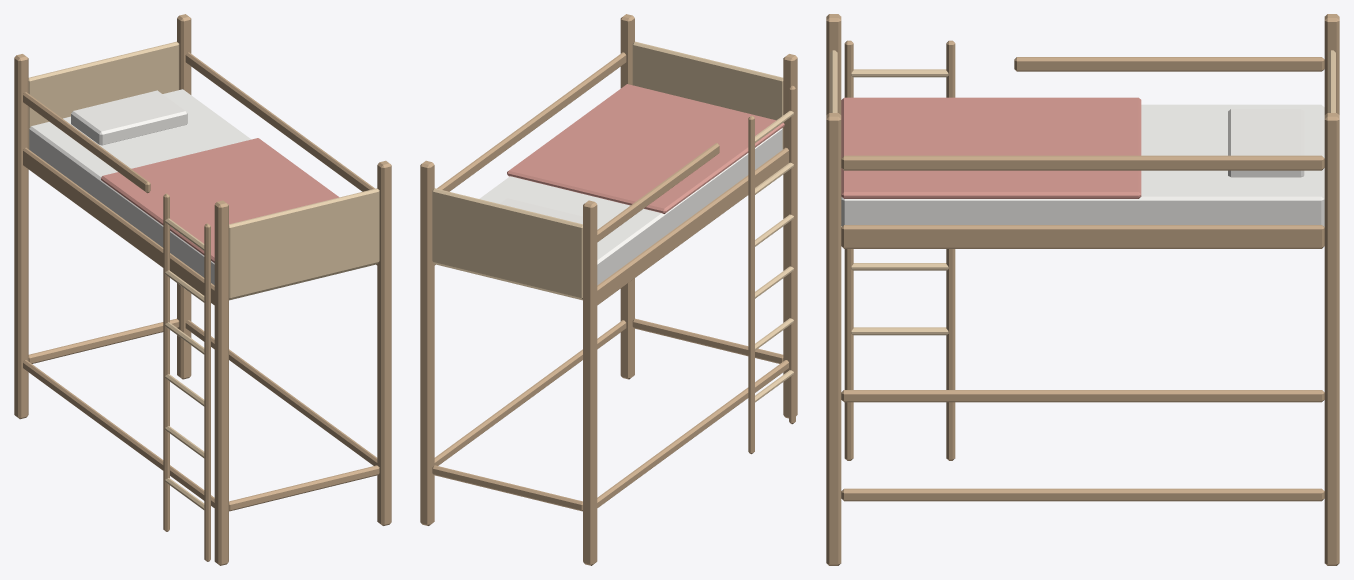
File: SingleLoftBed.glb
3 renders of one model, left to right at view 1: azimuth 30°, elevation 25°; view 2: azimuth 150°, elevation 25°; view 3: azimuth 270°, elevation 25°, orthographic. The views are drawn at different scales.
Parts seen in each view (by area): view 1: SingleLoftBed_Body; view 2: SingleLoftBed_Body; view 3: SingleLoftBed_Body.
Boxes of the visible parts, left/top/right/bottom form: SingleLoftBed_Body: left=14, top=14, right=391, bottom=565; SingleLoftBed_Body: left=420, top=14, right=797, bottom=565; SingleLoftBed_Body: left=826, top=14, right=1339, bottom=565.
Size of the model in its own units: 1.01 by 1.95 by 2.02.
